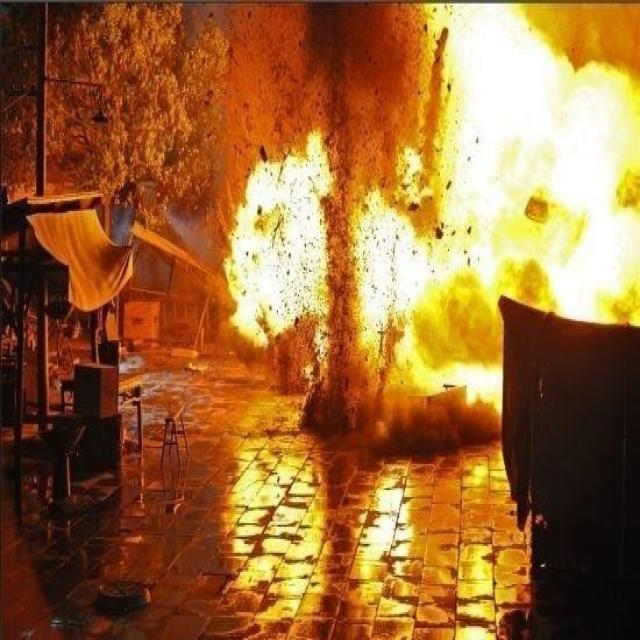fire: (217, 2, 640, 428)
